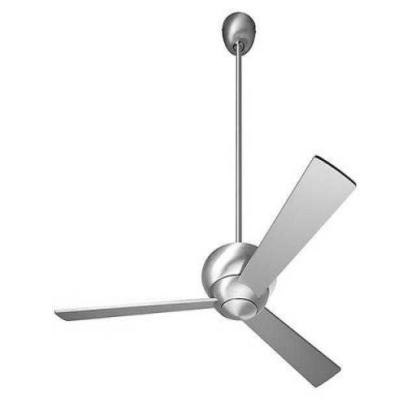ceiling-fan: (53, 10, 359, 388)
